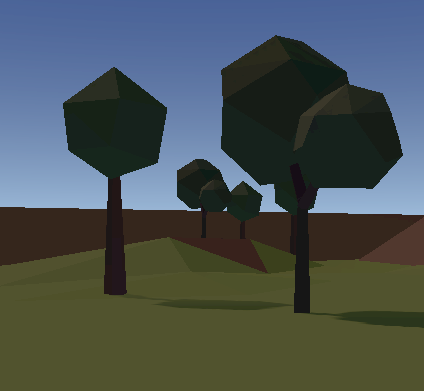tree: (218, 32, 406, 312), (61, 65, 169, 296), (173, 157, 232, 246), (227, 180, 264, 242)
